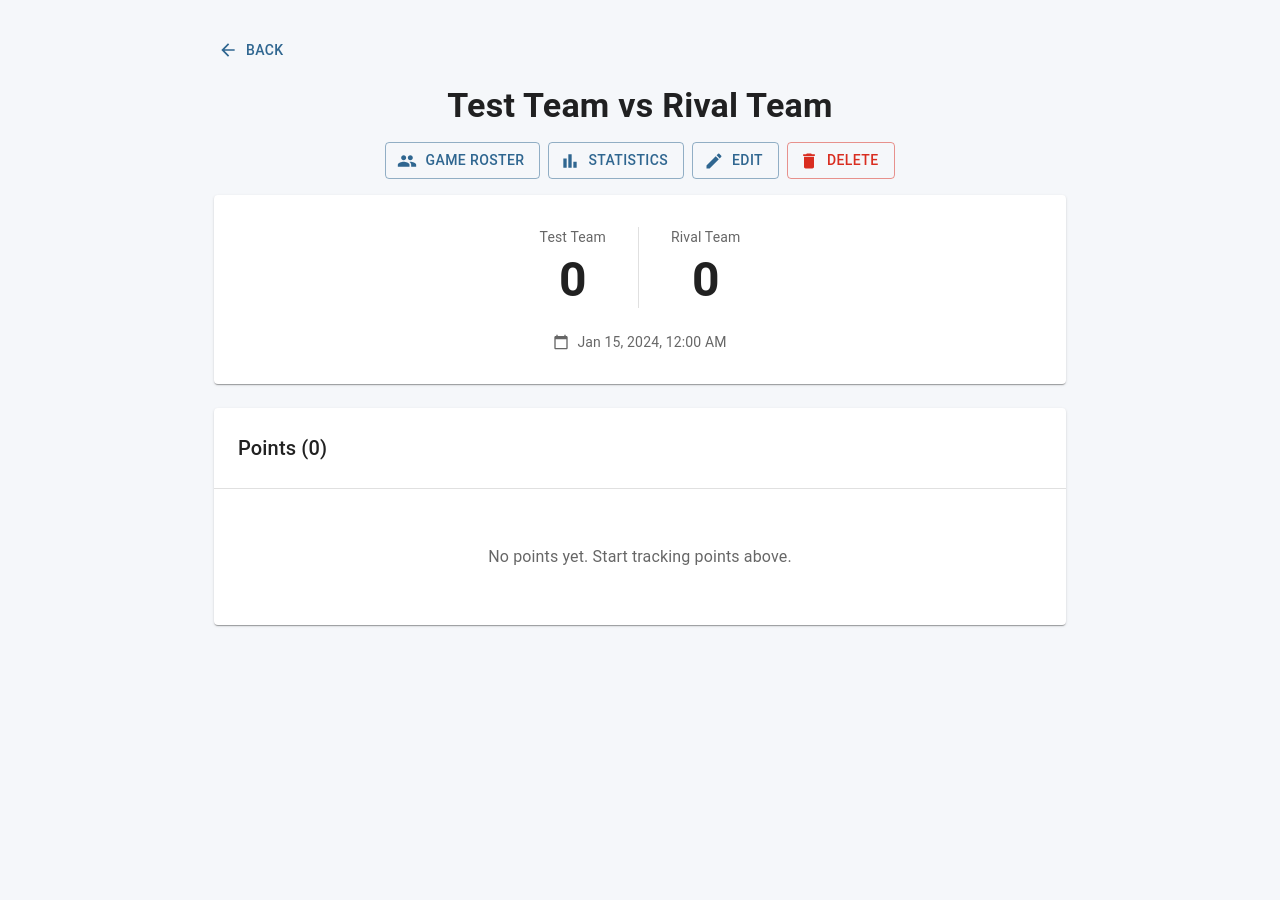
Test case: GameDetailPage › disables player management when game is finished
Expected: the heading "Test Team vs Rival Team" is shown, 447,84 -> 833,124
Note: Open roster dialog
Click the button "Game Roster" at (463, 161), box 386,142 -> 540,179
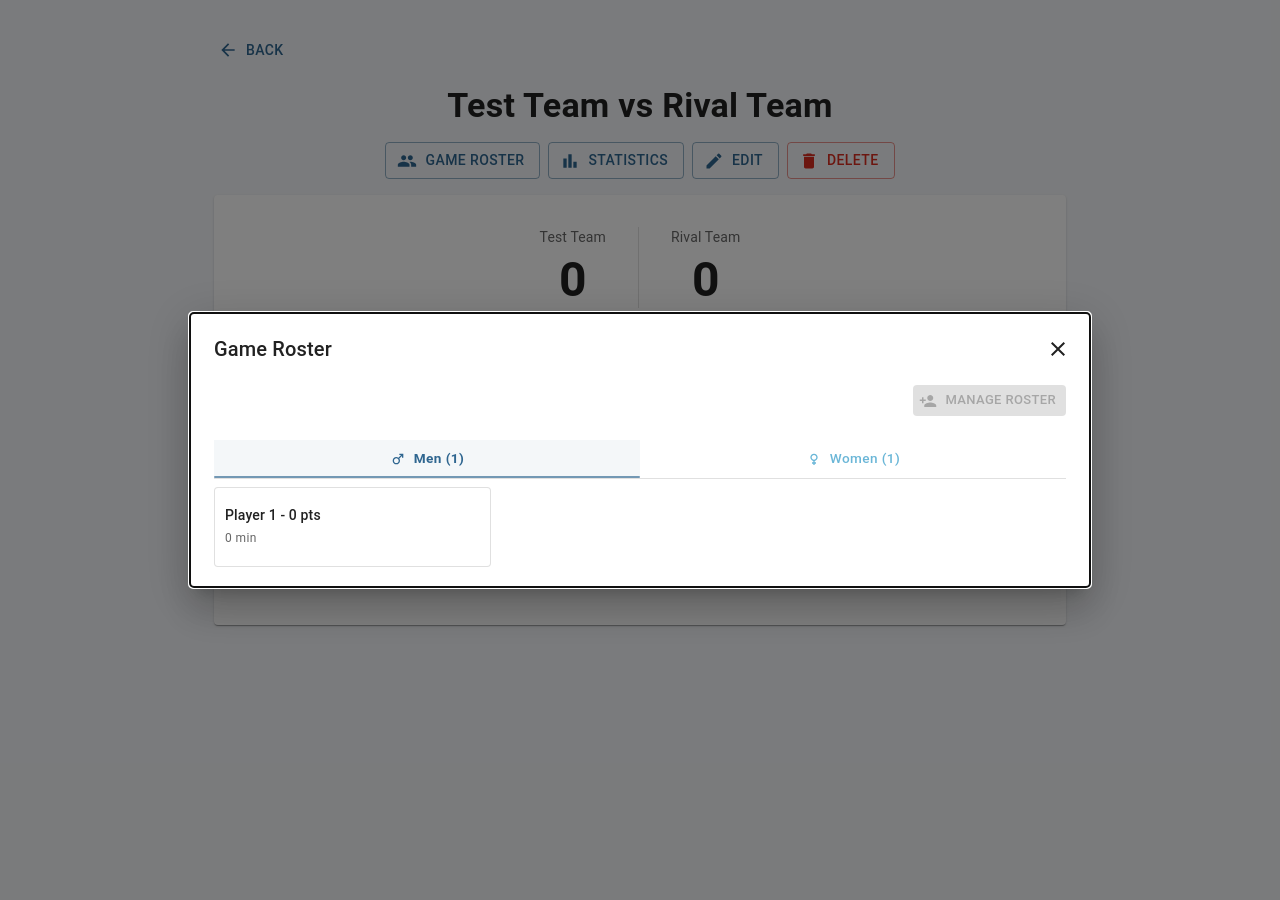
Expected: the dialog is shown, 190,313 -> 1090,587
Expected: the button "Manage Roster" is disabled, 913,385 -> 1066,416
Expected: the text "Player 1 - 0 pts" is shown, 225,505 -> 321,525
Click the tab "Women (1)" at (853, 459), box 640,440 -> 1066,478
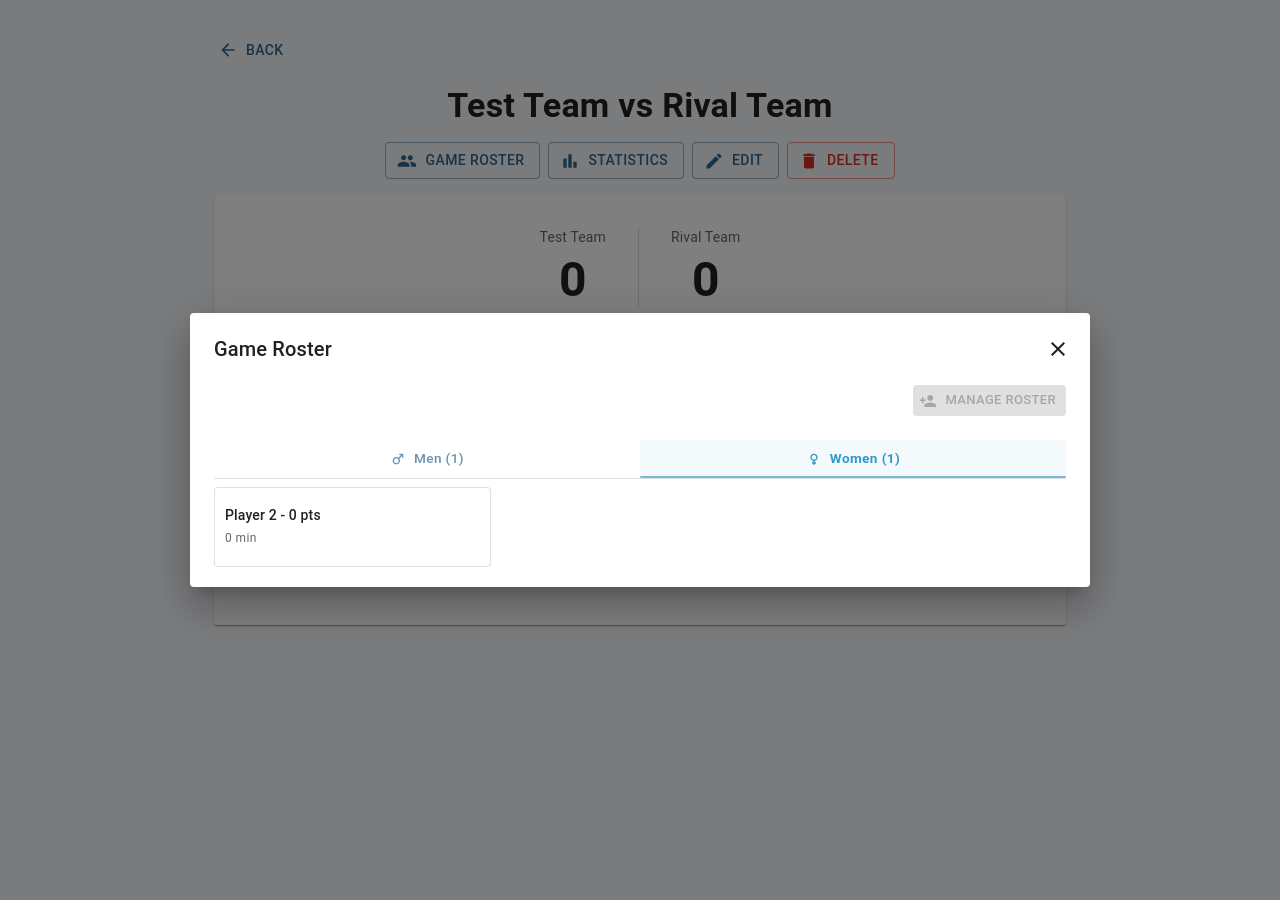
Expected: the text "Player 2 - 0 pts" is shown, 225,505 -> 321,525
Note: Close the roster dialog to check main page buttons
Click the button named "close" at (1058, 349), box 1038,329 -> 1078,369
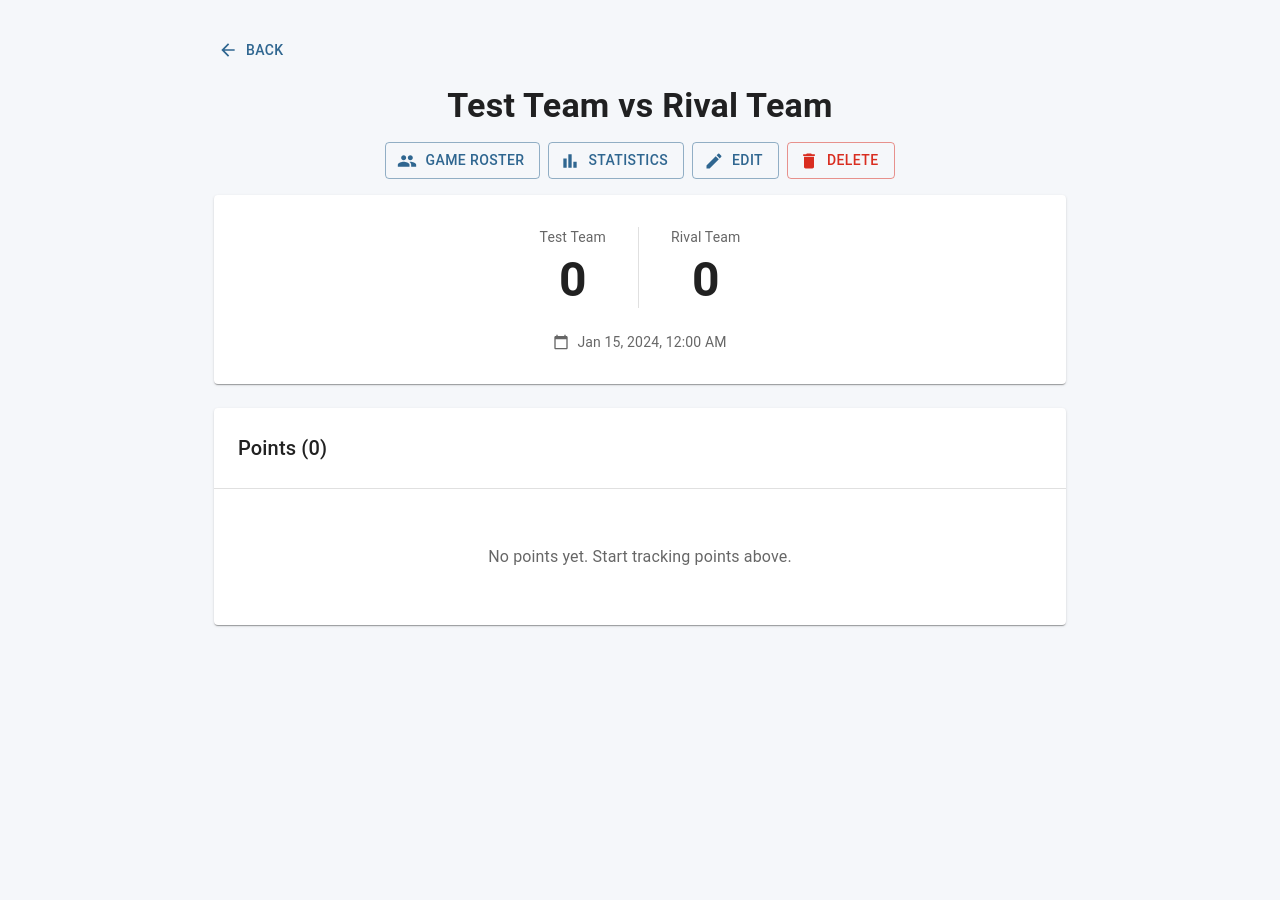
Expected: the dialog is gone
Expected: the number of buttons "Delete" is 1, 787,142 -> 894,179
